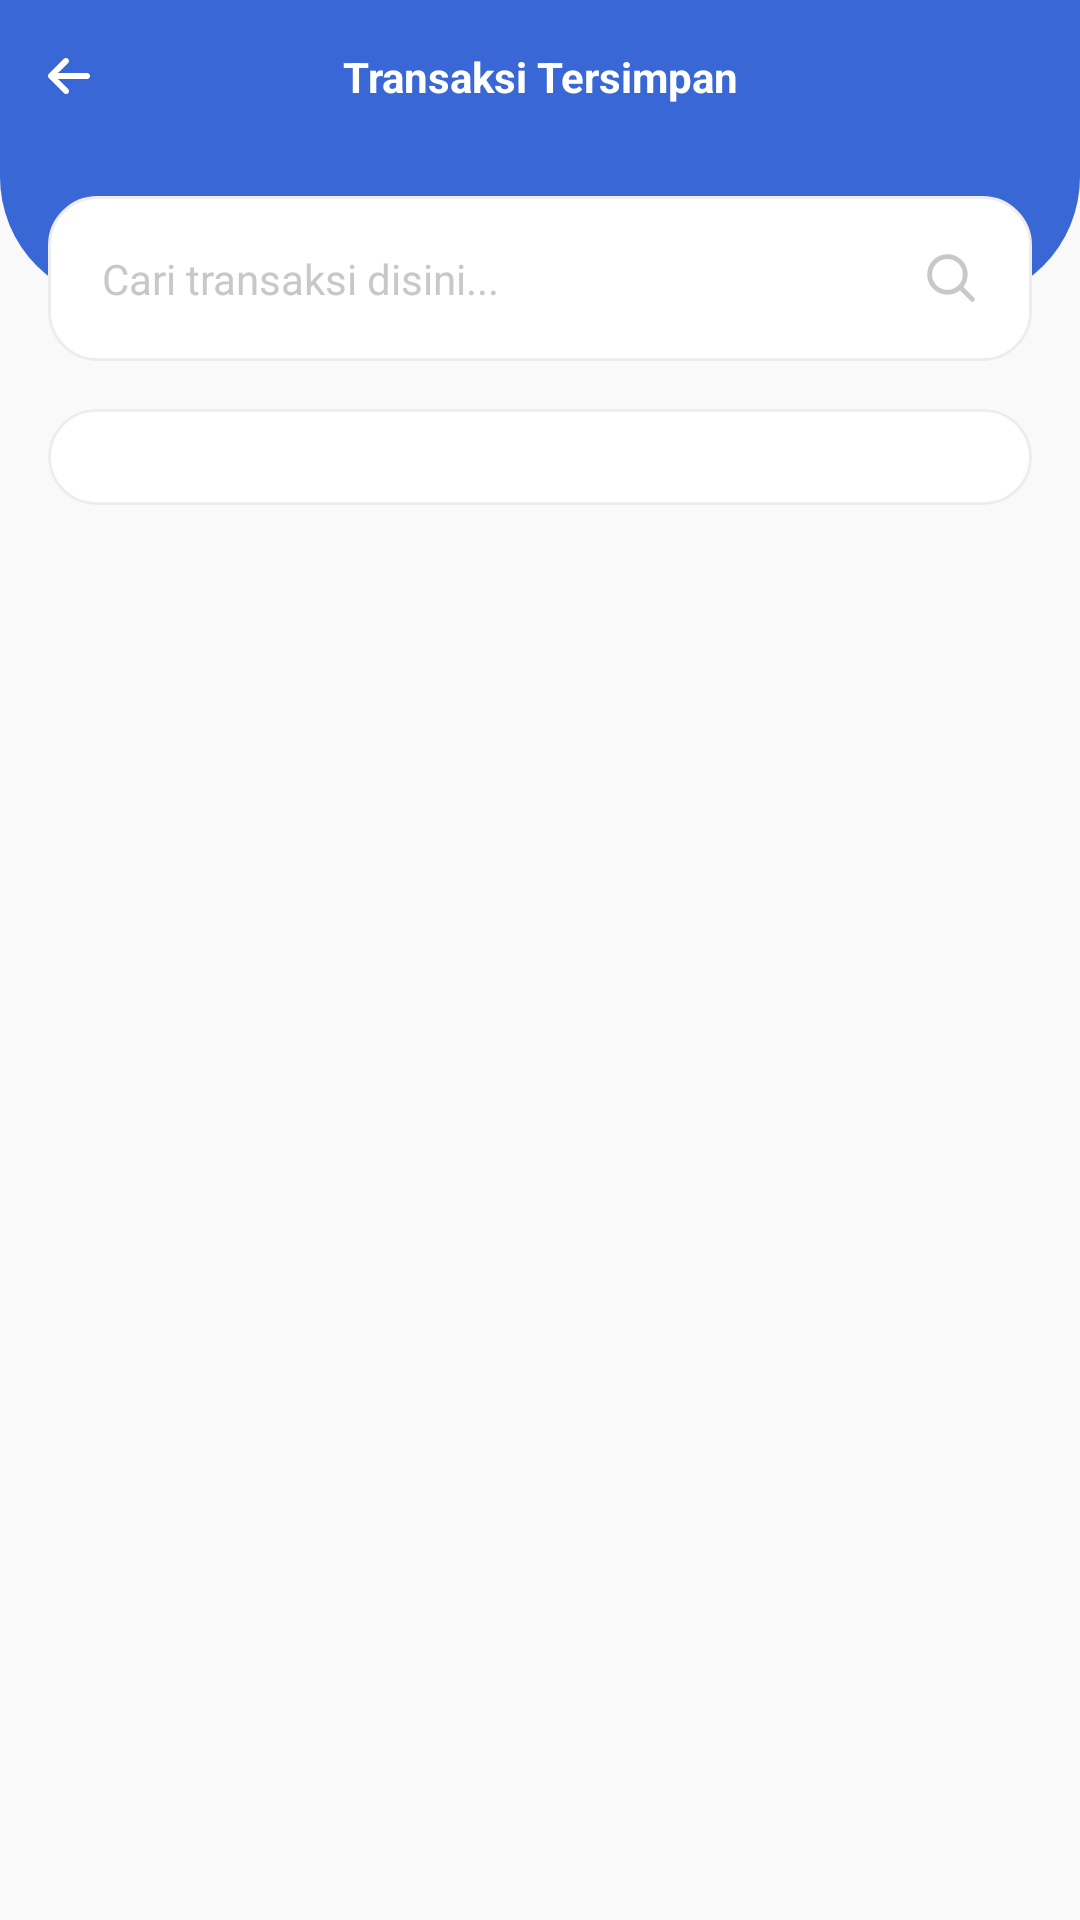

Where icons sit on this 1080×1920 app screen, as (x1, y1, x2, y2):
arrow: (48, 58, 90, 94)
